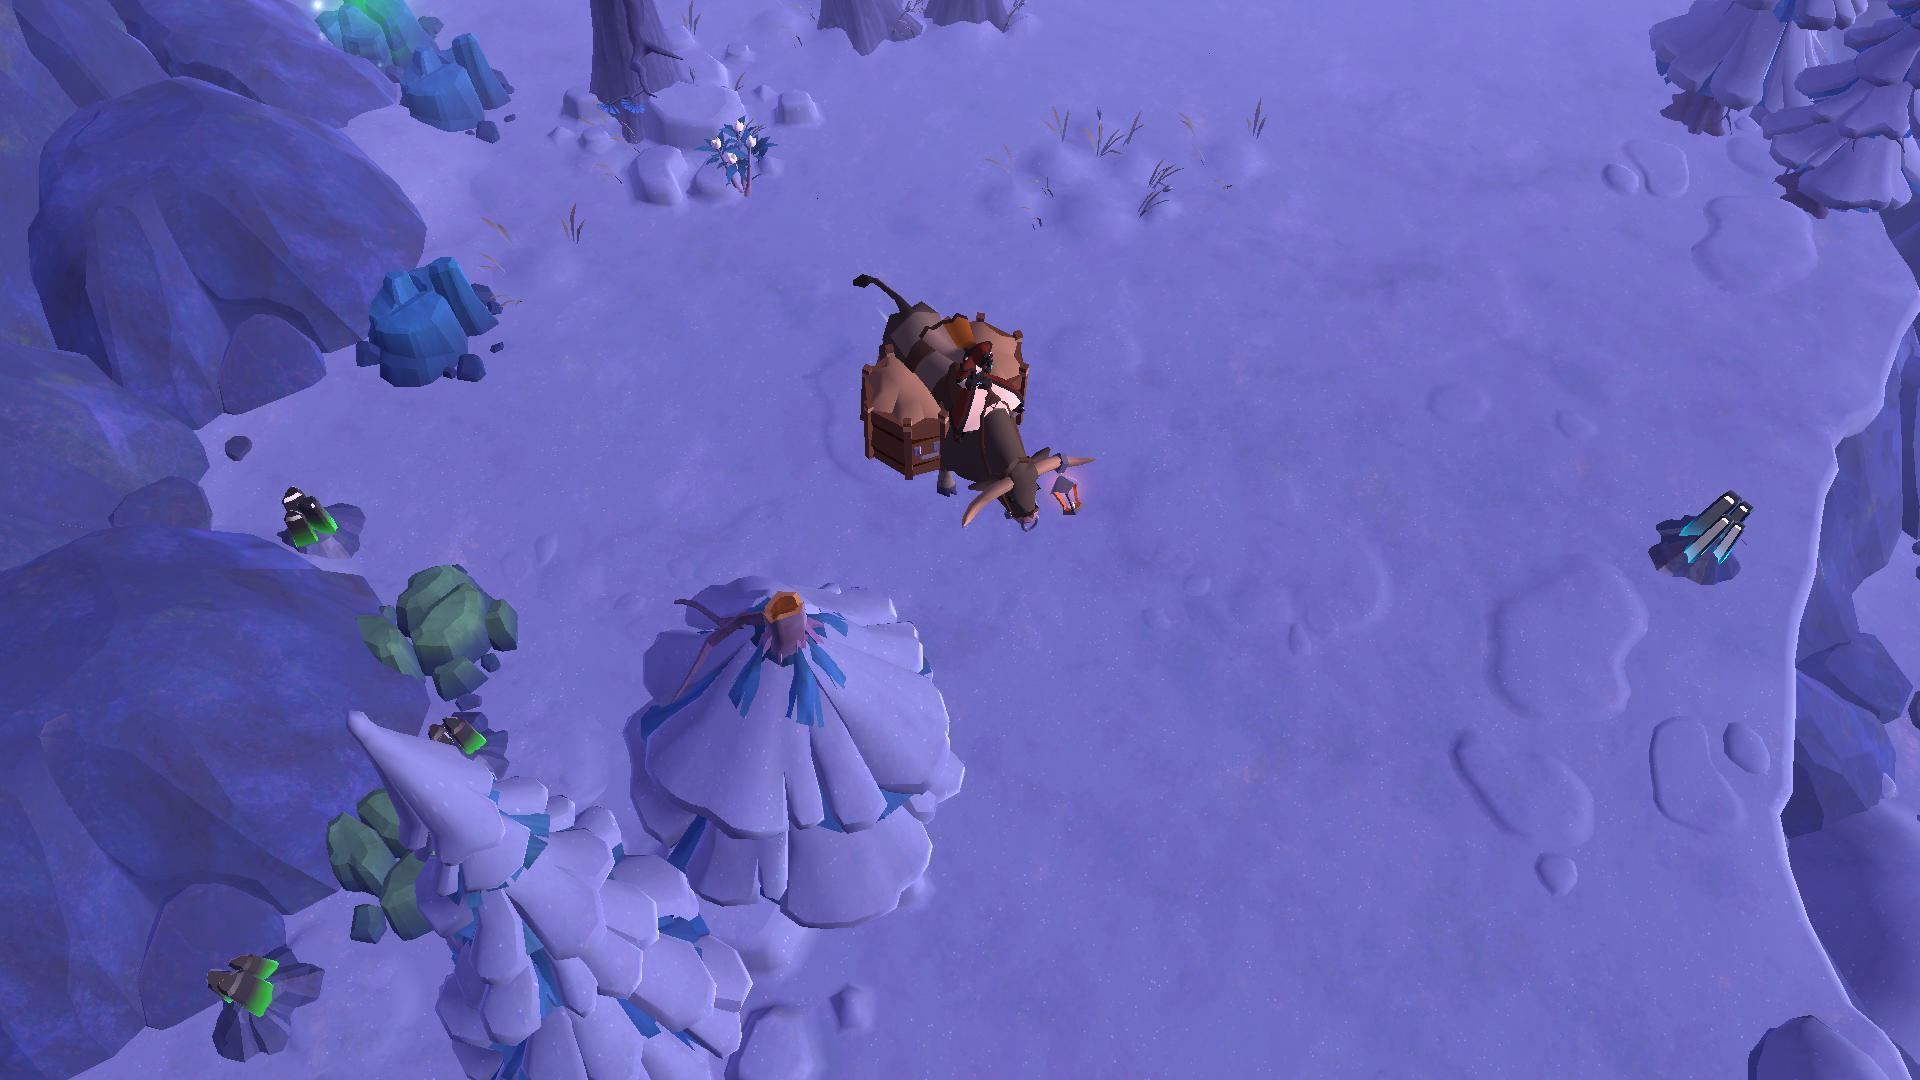fiber_t4: (700, 115, 771, 198)
ore_t3: (206, 947, 276, 1030), (274, 479, 339, 554), (425, 704, 481, 762)
ore_t4: (1667, 485, 1747, 570)
rock_t3: (305, 775, 473, 948), (372, 553, 524, 698)
rock_t4: (351, 264, 508, 386), (405, 30, 524, 146), (330, 0, 435, 87)
